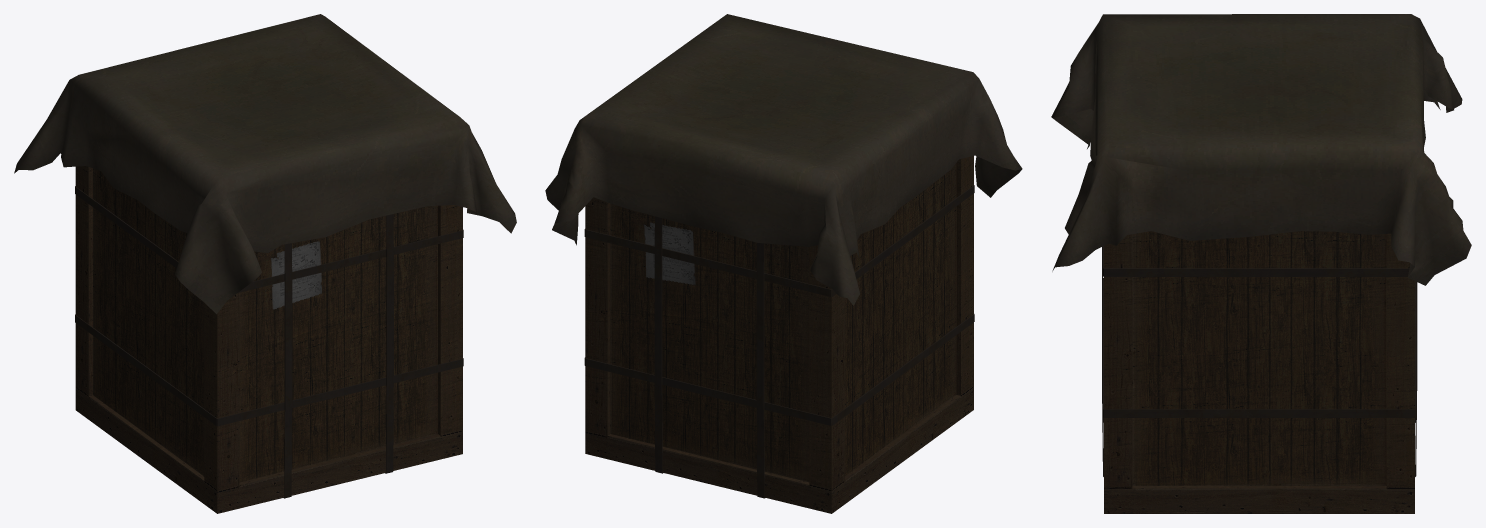
Rendered from wooden_crate_hx_2_2.glb.
3 renders of one model, left to right at view 1: azimuth 30°, elevation 25°; view 2: azimuth 150°, elevation 25°; view 3: azimuth 270°, elevation 25°, orthographic. The views are drawn at different scales.
Visible parts, largest first — view 1: wooden_crate_hx_2_2; view 2: wooden_crate_hx_2_2; view 3: wooden_crate_hx_2_2.
Part boxes in pixels (x1,y1,x2,y2): wooden_crate_hx_2_2: (14, 14, 516, 513); wooden_crate_hx_2_2: (545, 14, 1022, 513); wooden_crate_hx_2_2: (1051, 14, 1471, 513).
Size of the model in its own units: 1.89 by 1.84 by 1.89.
Materials: 3 (3 with a texture image).
